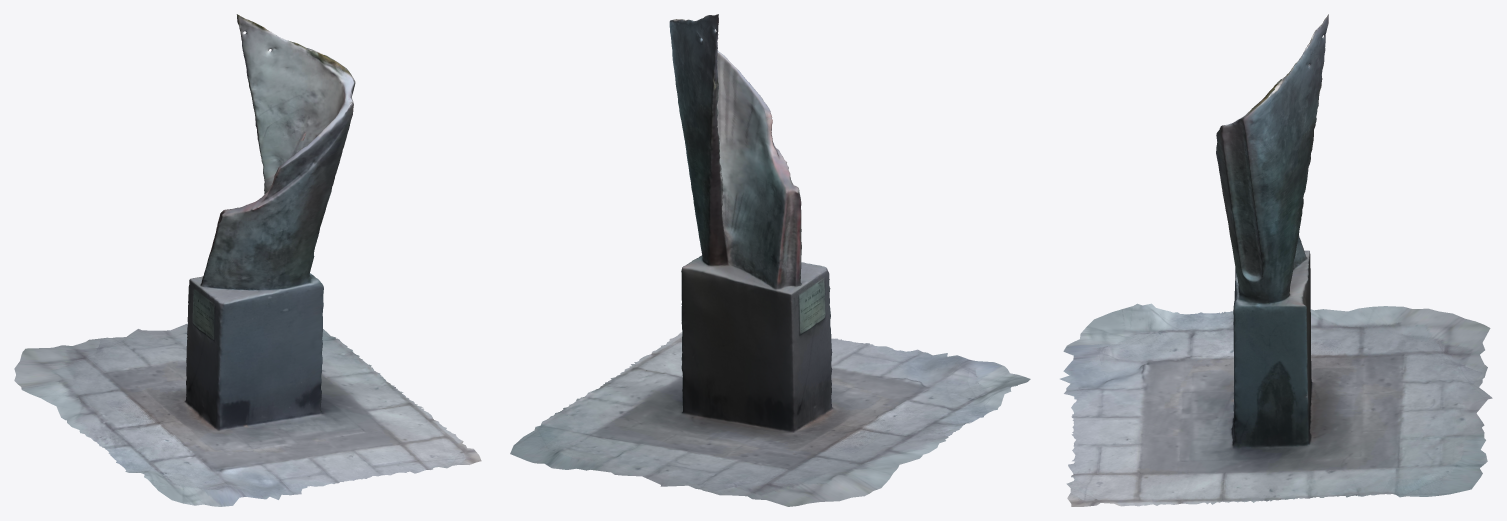
File: day23_sculpture_to_the_woman.glb
3 views of the same model, side by side, from view 1: azimuth 30°, elevation 25°; view 2: azimuth 150°, elevation 25°; view 3: azimuth 270°, elevation 25° (orthographic). The views are drawn at different scales.
Visible parts, largest first — view 1: Escultura; view 2: Escultura; view 3: Escultura.
Boxes of the visible parts, box(x1,y1,x2,y2) form: Escultura: box(14, 14, 481, 506); Escultura: box(510, 14, 1030, 506); Escultura: box(1060, 14, 1492, 506).
Bounding box in the file's own units: 30.33 × 36.05 × 33.29.
3 materials, 2 textured.
